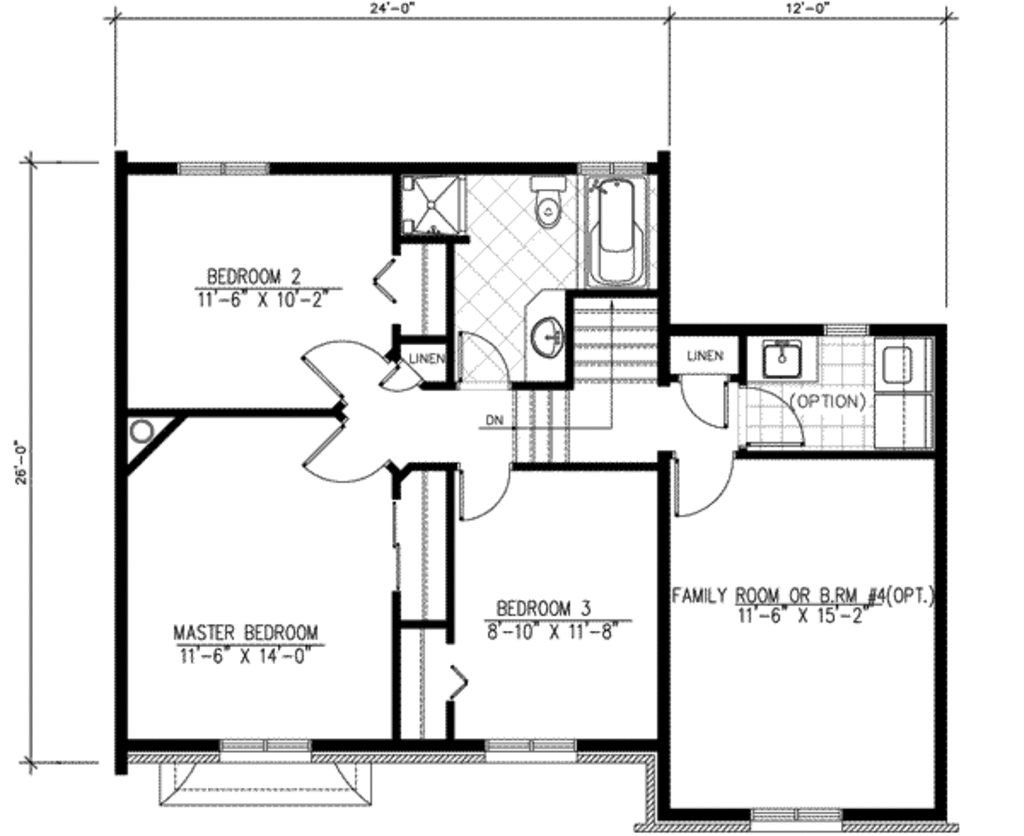door: (296, 423, 395, 490), (300, 337, 386, 399), (736, 379, 806, 448), (673, 448, 735, 523), (448, 462, 514, 527), (455, 329, 512, 392), (678, 371, 731, 430), (380, 361, 423, 398)
large_sink: (516, 170, 567, 235)
small_sink: (523, 287, 569, 384), (747, 338, 822, 391)
stairs: (565, 290, 664, 470)
tub: (576, 170, 656, 297)
window: (750, 806, 843, 836), (173, 156, 275, 183), (217, 733, 311, 762), (482, 740, 579, 767), (820, 320, 878, 338)
